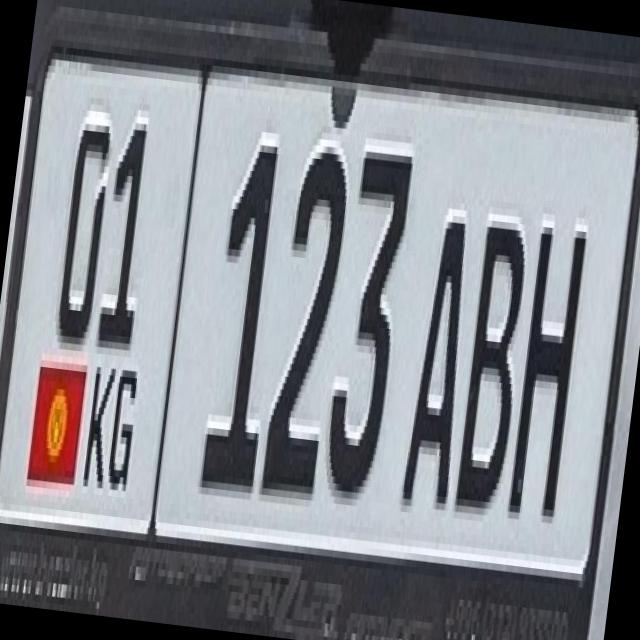1: (182, 100, 296, 500), (86, 87, 170, 346)
2: (249, 102, 364, 501)
3: (312, 136, 419, 502)
A: (391, 192, 482, 510)
B: (448, 200, 538, 510)
D: (43, 94, 121, 346), (17, 345, 90, 478)
H: (498, 206, 590, 516)
